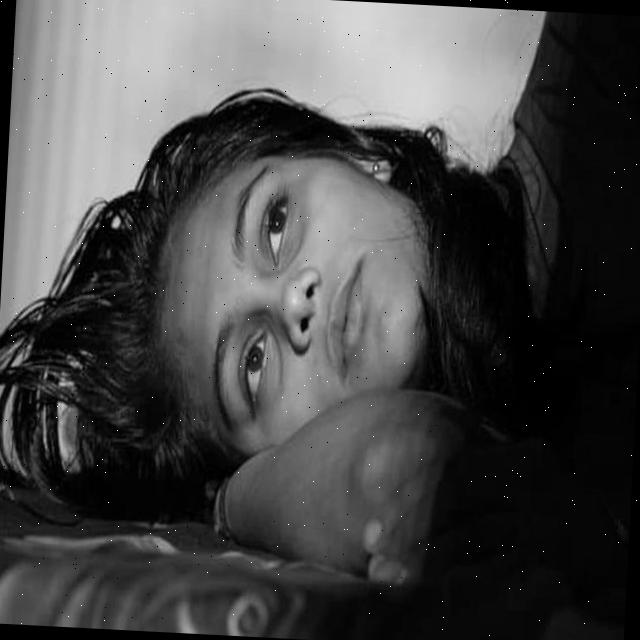Sadness: (154, 154, 430, 448)
